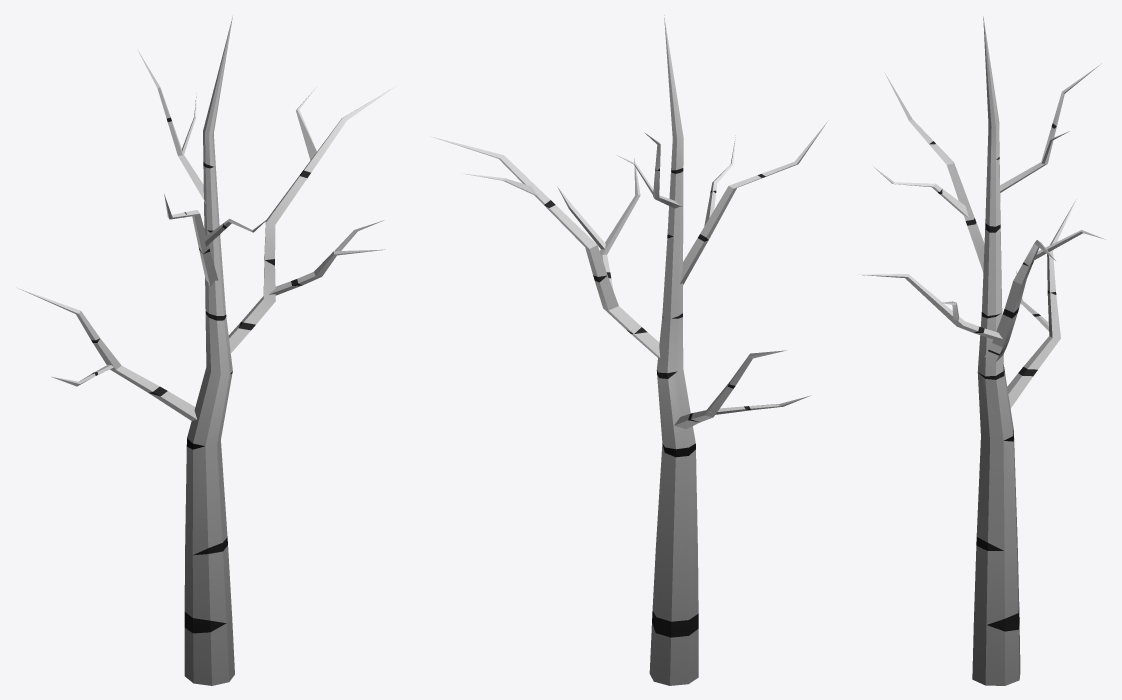
File: birch7.glb
The picture shows the model from 3 angles, left to right: view 1: azimuth 30°, elevation 25°; view 2: azimuth 150°, elevation 25°; view 3: azimuth 270°, elevation 25°; orthographic projection. The views are drawn at different scales.
Visible parts, largest first — view 1: birch7; view 2: birch7; view 3: birch7.
Part boxes in pixels (x1,y1,x2,y2): birch7: (16,16,397,685); birch7: (430,15,828,685); birch7: (858,16,1105,685).
Bounding box in the file's own units: 3.9 × 6.57 × 2.22.
Materials: 1 (1 with a texture image).
